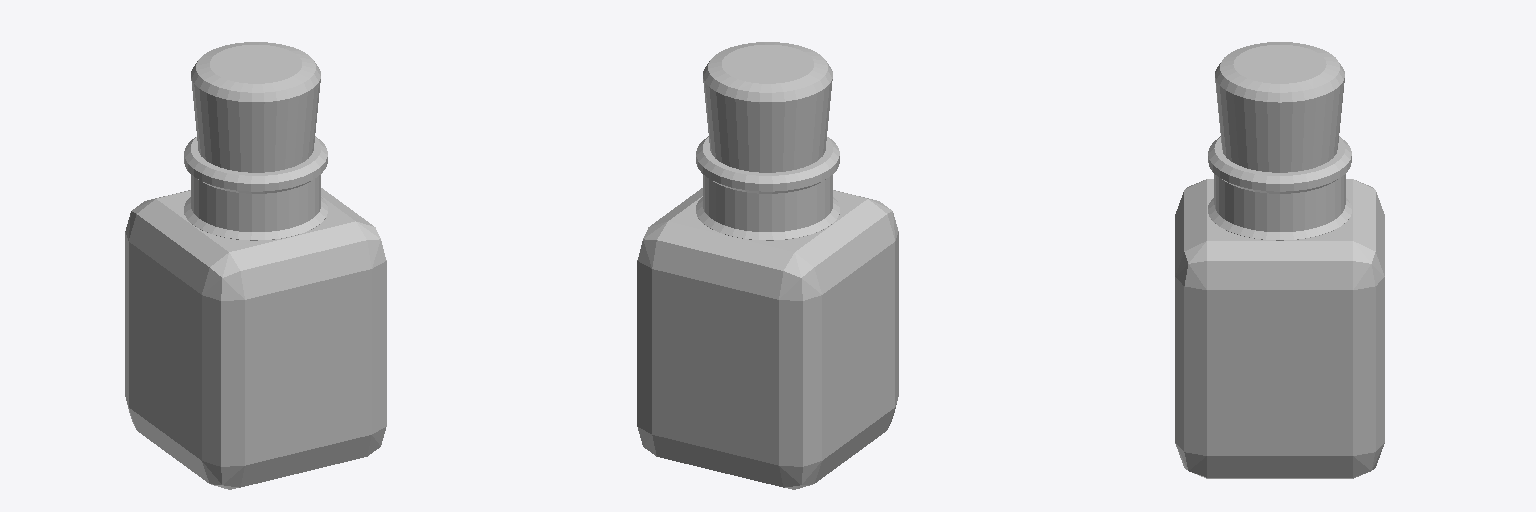
Rendered from potion_premanente.obj.
3 renders of one model, left to right at view 1: azimuth 30°, elevation 25°; view 2: azimuth 150°, elevation 25°; view 3: azimuth 270°, elevation 25°, orthographic.
Parts seen in each view (by area): view 1: Cube, Cylindre; view 2: Cube, Cylindre; view 3: Cube, Cylindre.
Part boxes in pixels (bbox=[...]): Cube: bbox=[125, 136, 386, 489]; Cylindre: bbox=[191, 42, 320, 172]; Cube: bbox=[637, 136, 898, 489]; Cylindre: bbox=[703, 42, 832, 172]; Cube: bbox=[1175, 136, 1384, 478]; Cylindre: bbox=[1215, 42, 1344, 172].
Size of the model in its own units: 0.04 by 0.0807 by 0.04.